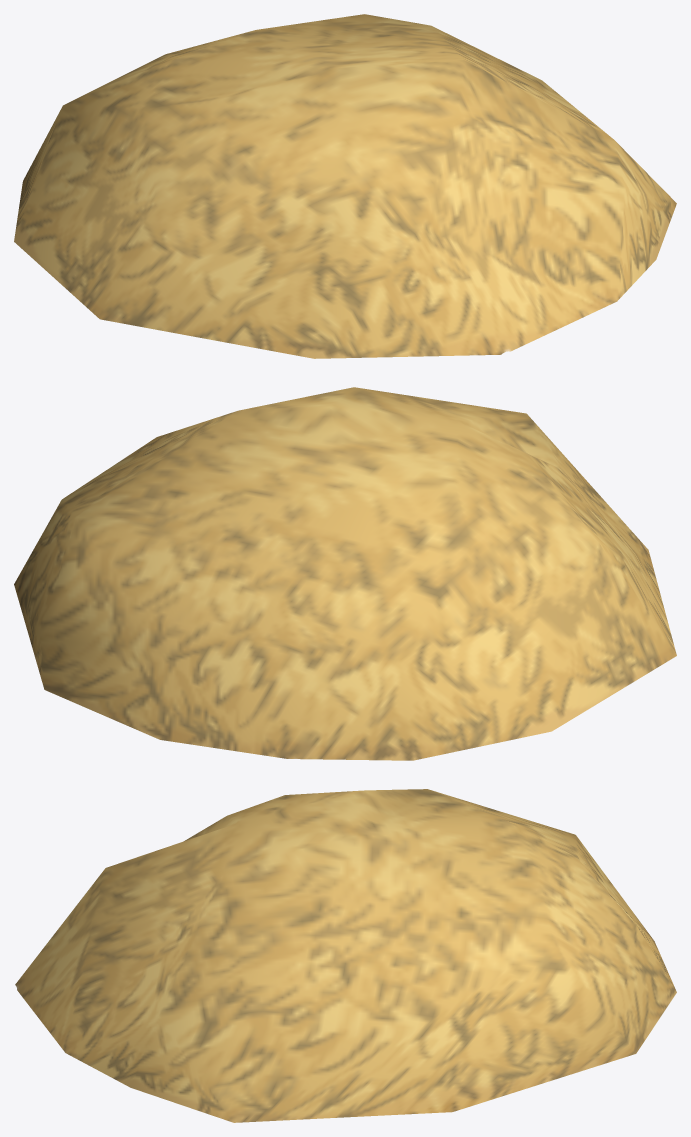
The model's file is Haystack_02.FBX.
The picture shows the model from 3 angles, top to bottom: view 1: azimuth 30°, elevation 25°; view 2: azimuth 150°, elevation 25°; view 3: azimuth 270°, elevation 25°; orthographic projection. The views are drawn at different scales.
Visible parts, largest first — view 1: Haystack_02; view 2: Haystack_02; view 3: Haystack_02.
Boxes of the visible parts, x1,y1,x2,y2 form: Haystack_02: (14, 14, 676, 358); Haystack_02: (14, 387, 676, 760); Haystack_02: (15, 789, 676, 1122).
Size of the model in its own units: 3.83 by 1.07 by 4.05.
